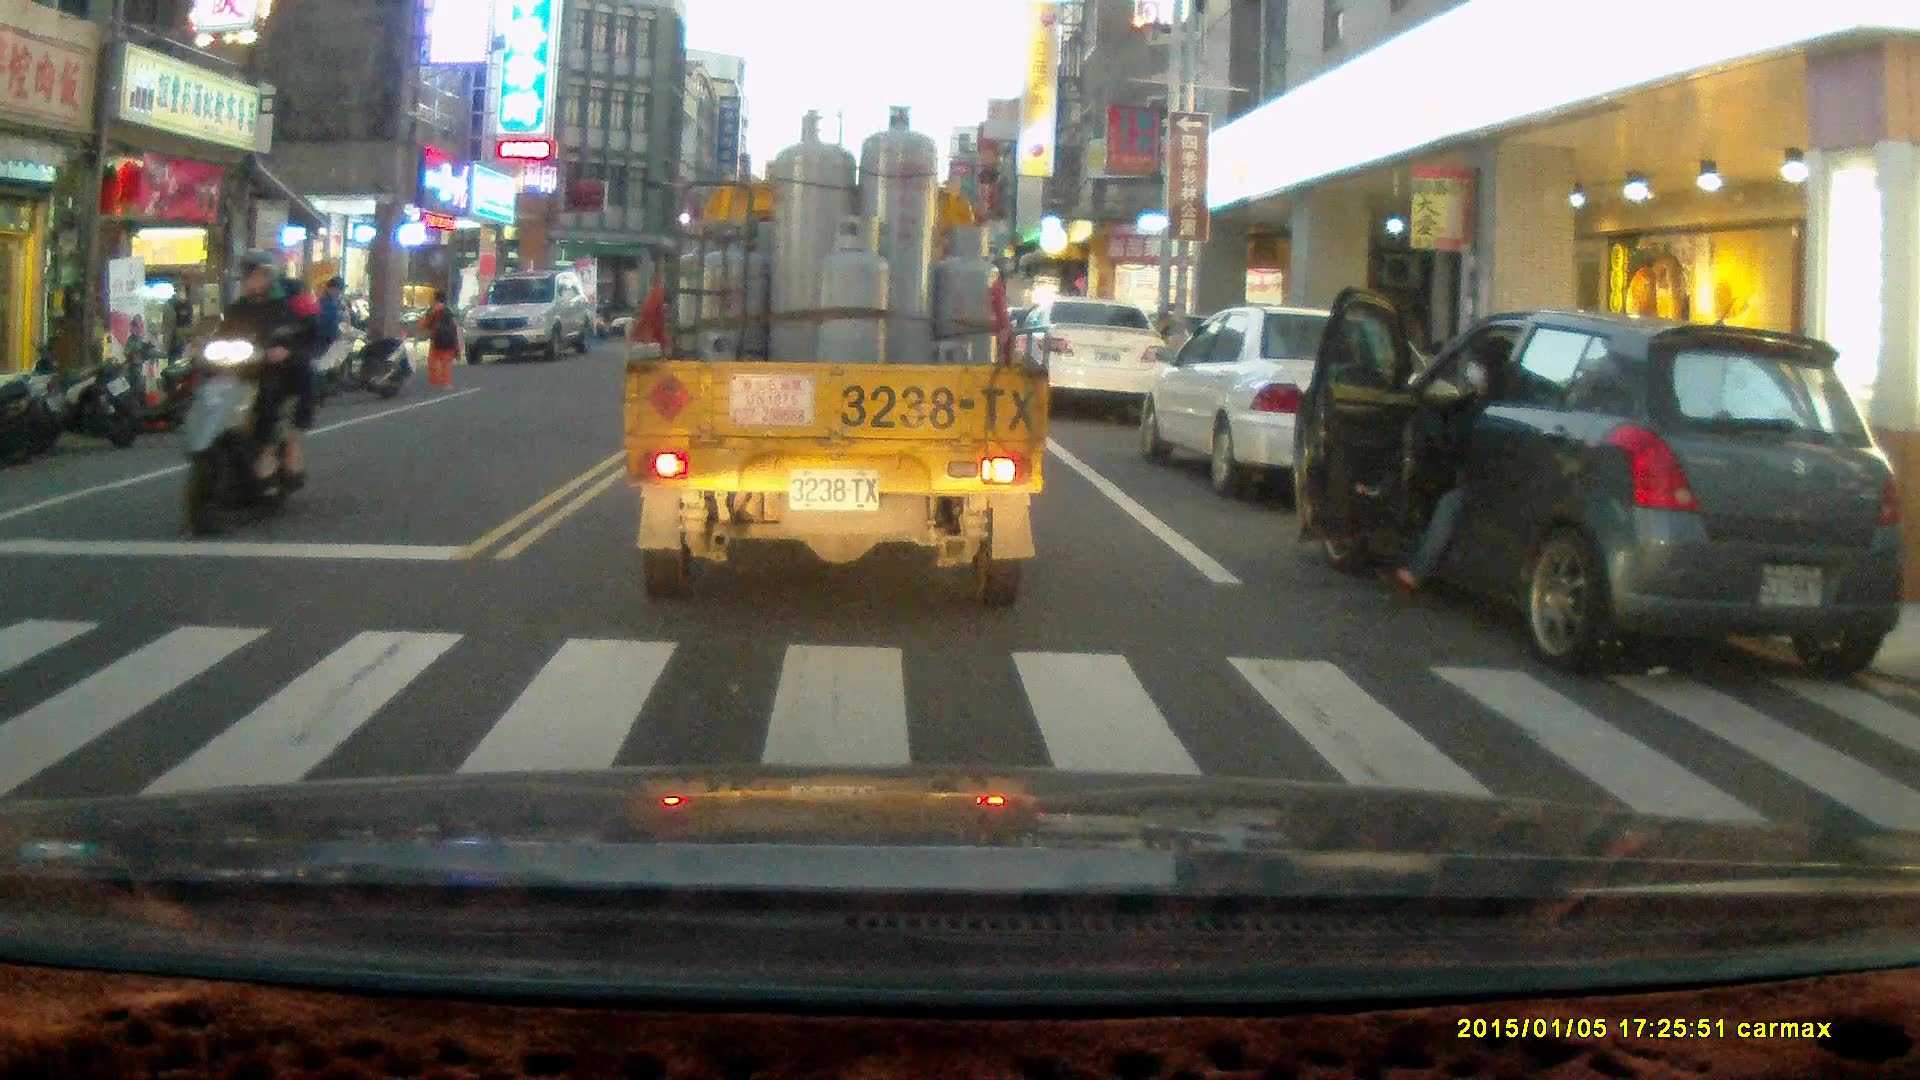pedestrian: (1372, 333, 1534, 599), (410, 286, 463, 388), (309, 275, 349, 394), (157, 282, 194, 395)
rider: (175, 249, 321, 539)
vehicle: (1303, 314, 1914, 685), (620, 100, 1053, 610), (1148, 309, 1466, 499), (1016, 296, 1166, 416), (460, 272, 601, 365)
